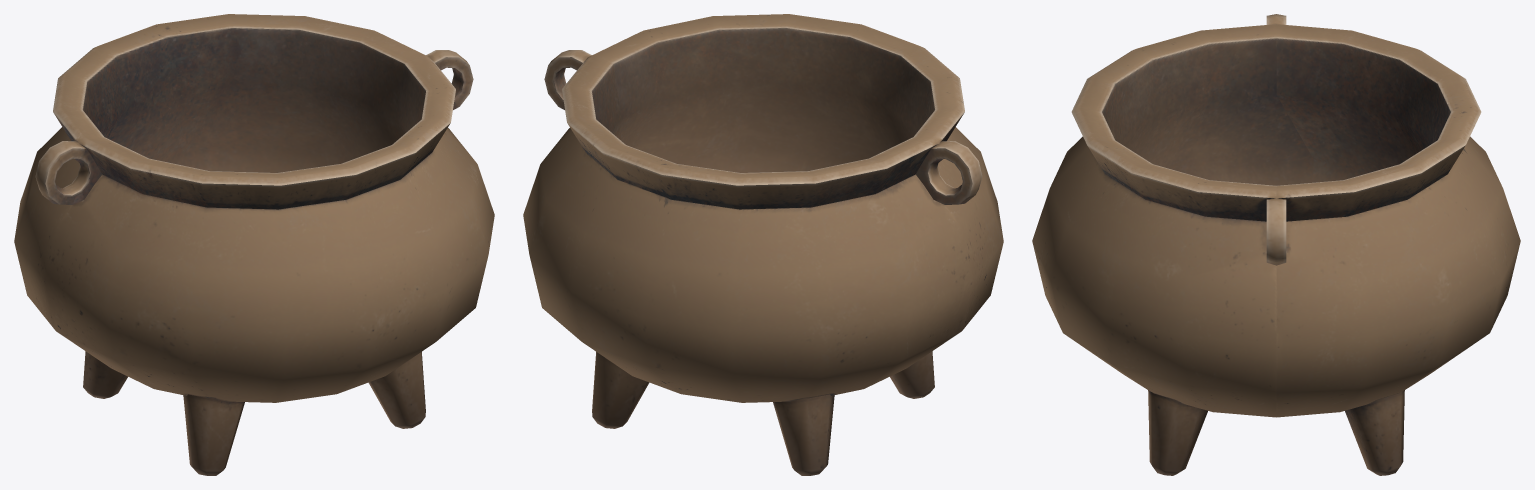
The picture shows the model from 3 angles, left to right: view 1: azimuth 30°, elevation 25°; view 2: azimuth 150°, elevation 25°; view 3: azimuth 270°, elevation 25°; orthographic projection.
Visible parts, largest first — view 1: submesh_0; view 2: submesh_0; view 3: submesh_0.
Boxes of the visible parts, x1,y1,x2,y2 form: submesh_0: [14, 14, 494, 475]; submesh_0: [523, 14, 1003, 475]; submesh_0: [1032, 14, 1520, 475].
Size of the model in its own units: 0.9742 by 0.6791 by 0.9462.
Materials: 1 (1 with a texture image).
